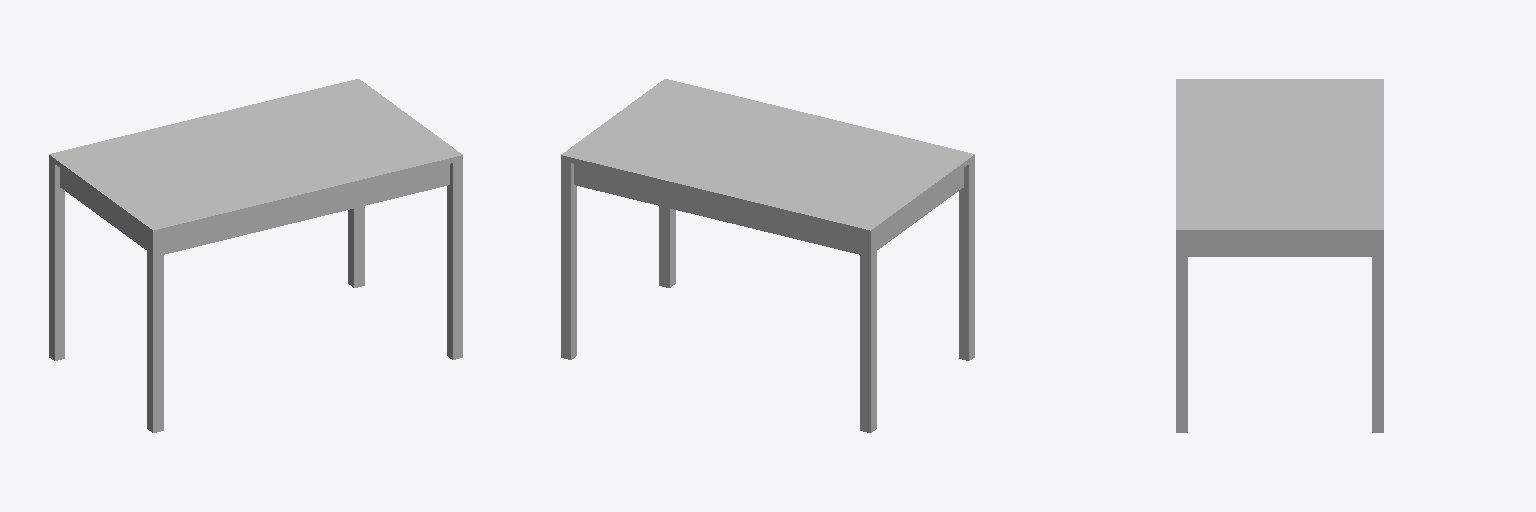
Rendered from table.obj.
3 views of the same model, side by side, from view 1: azimuth 30°, elevation 25°; view 2: azimuth 150°, elevation 25°; view 3: azimuth 270°, elevation 25° (orthographic).
Visible parts, largest first — view 1: object 1; view 2: object 1; view 3: object 1.
Part boxes in pixels (bbox=[...]): object 1: bbox=[49, 79, 462, 432]; object 1: bbox=[561, 79, 974, 432]; object 1: bbox=[1176, 79, 1383, 432].
Bounding box in the file's own units: 12 × 7.5 × 7.